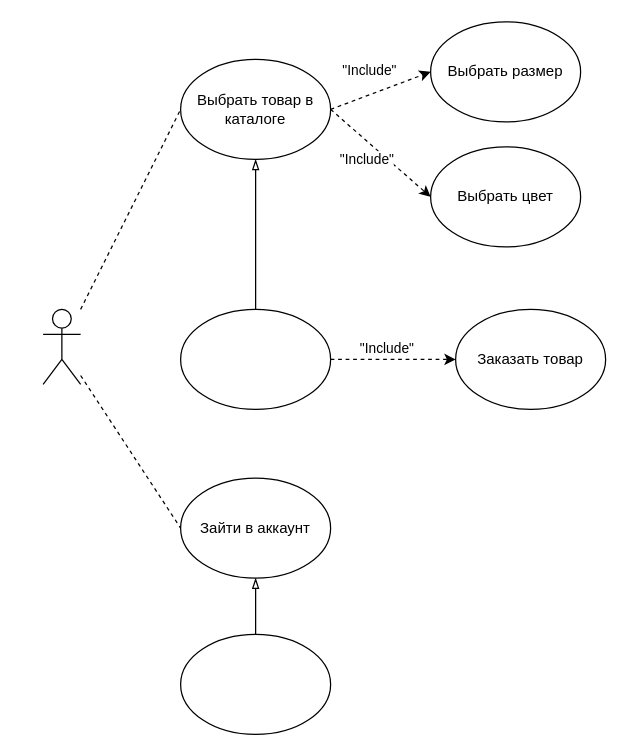
The diagram is 628 pixels wide and 756 high, and some of its shapes have lost their labels. The shapes that lost their labels are listed below. From the top down, each one's centre as x and y in pixels, then its label:
point (61, 346): Покупатель
point (255, 358): Добавить товар в корзину
point (255, 683): Зарегистрироваться
